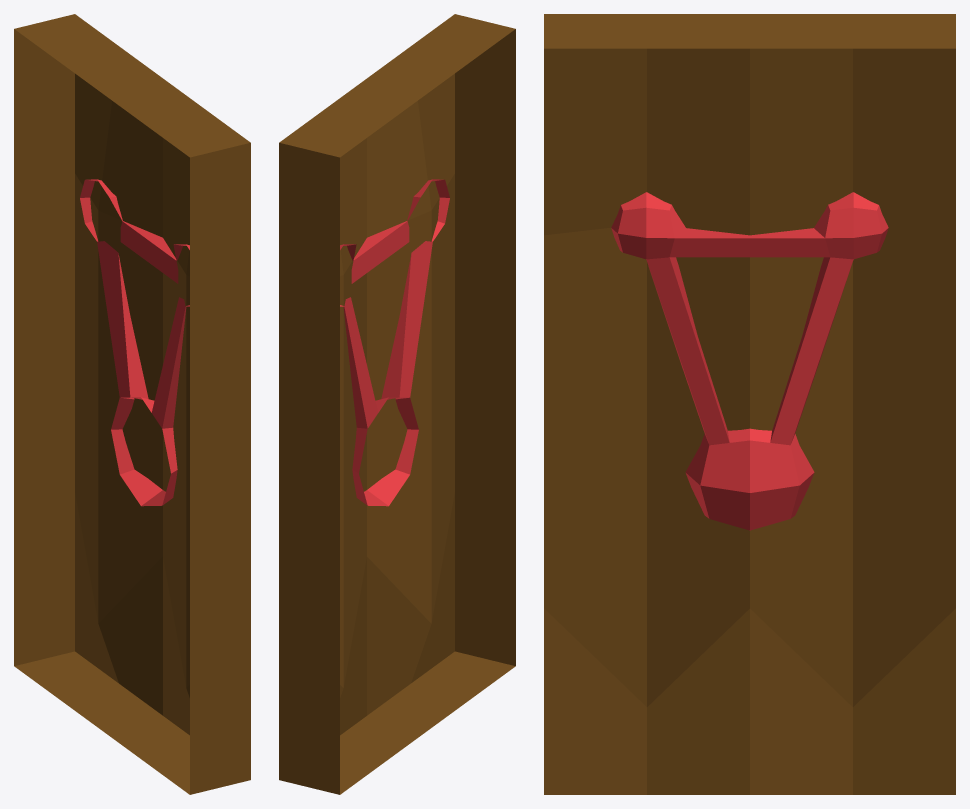
The model's file is button door.glb.
3 renders of one model, left to right at view 1: azimuth 30°, elevation 25°; view 2: azimuth 150°, elevation 25°; view 3: azimuth 270°, elevation 25°, orthographic. The views are drawn at different scales.
Parts seen in each view (by area): view 1: Cube; view 2: Cube; view 3: Cube.
Boxes of the visible parts, <box> form: Cube: <box>14,14,250,794</box>; Cube: <box>279,14,515,794</box>; Cube: <box>544,14,955,794</box>.
Size of the model in its own units: 0.5553 by 4 by 2.
